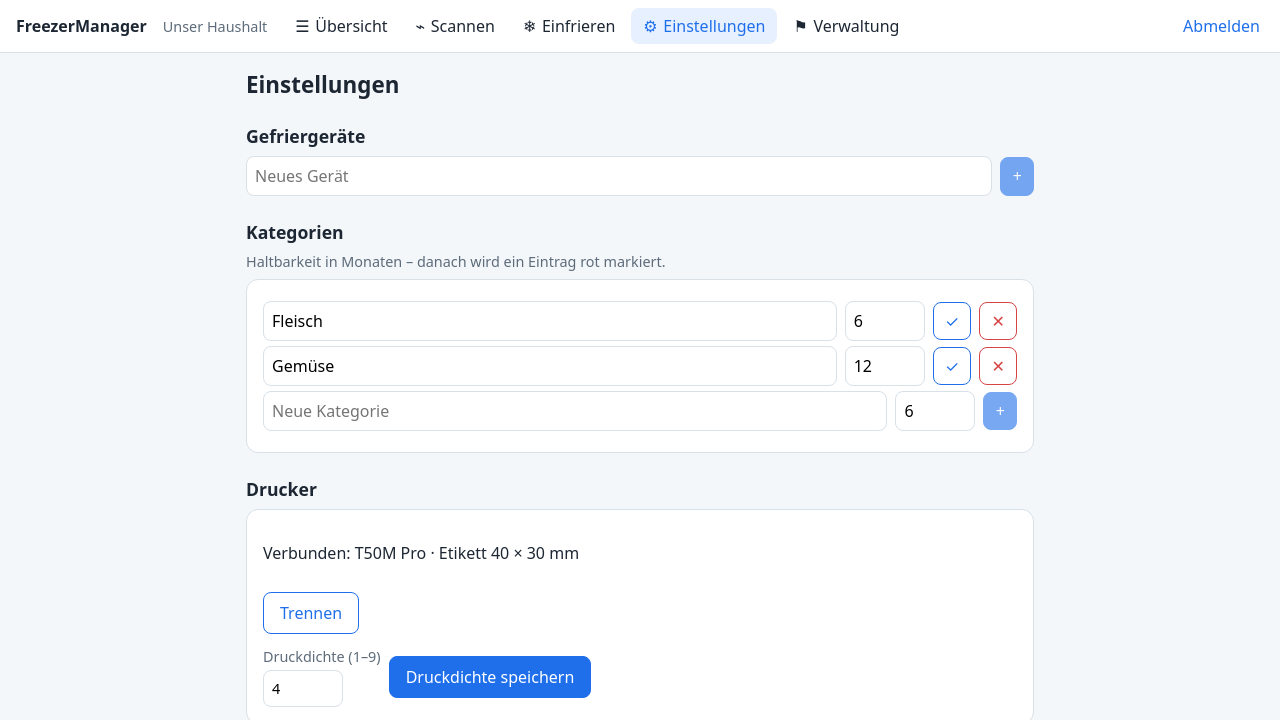
Test: adds a freezer and a compartment
Expected: the heading "Gefriergeräte" is shown, 246,124 -> 365,148
Type "Garage" into the field labelled "Neues Gerät" at (619, 176), box 246,156 -> 992,196
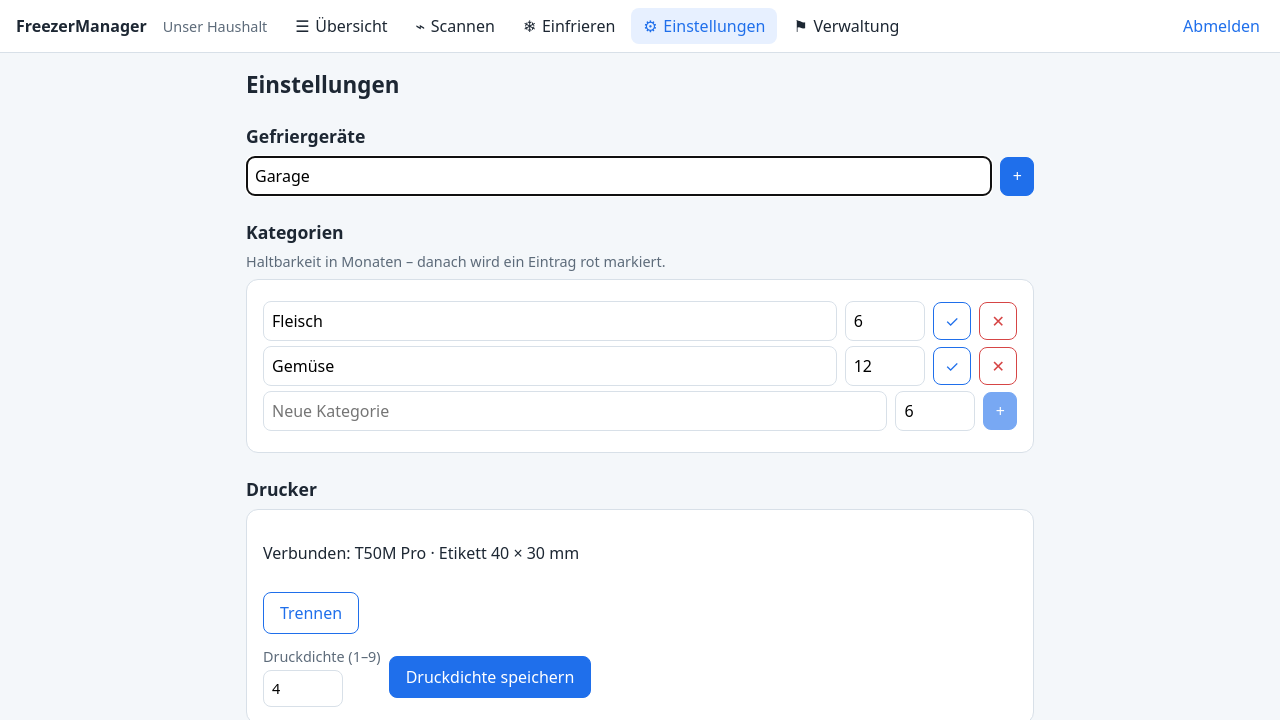
Click the button named "Gerät hinzufügen" at (1017, 176), box 1000,157 -> 1034,196
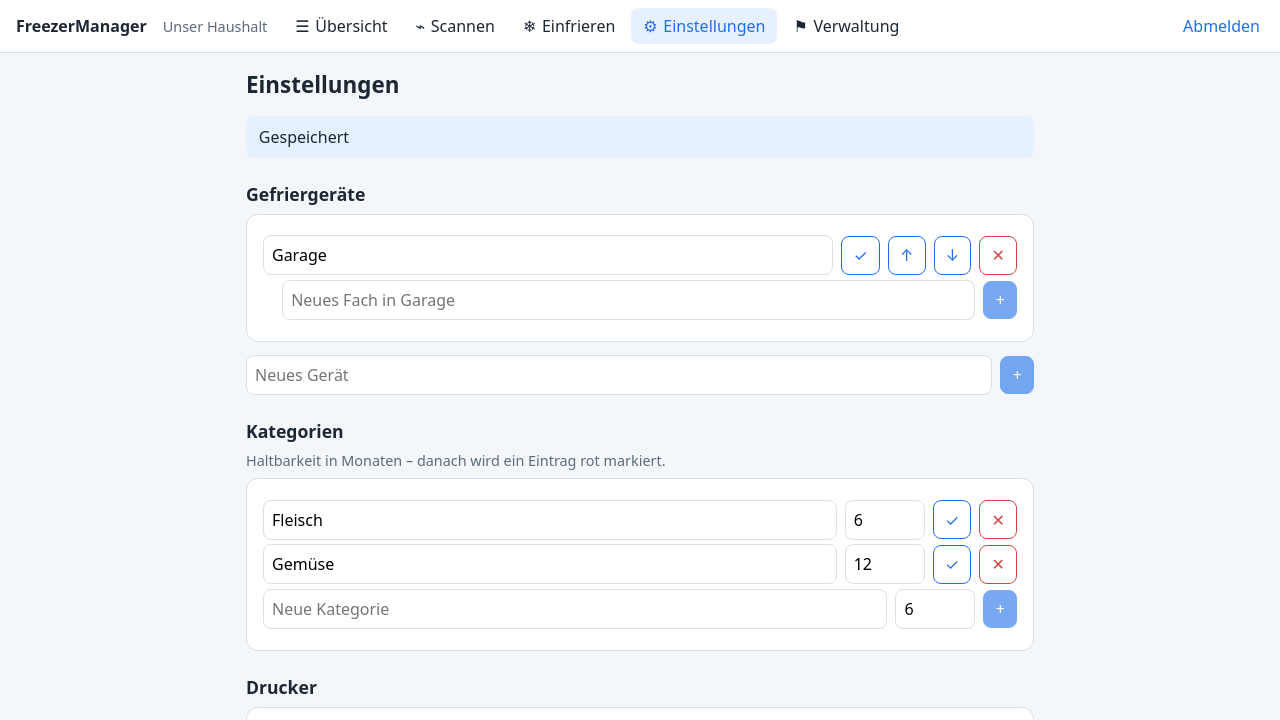
Result: the field showing "Garage" is shown at 263,235 -> 833,275
Type "Schublade 1" into the field labelled "Neues Fach in Garage" at (629, 300), box 282,280 -> 976,320
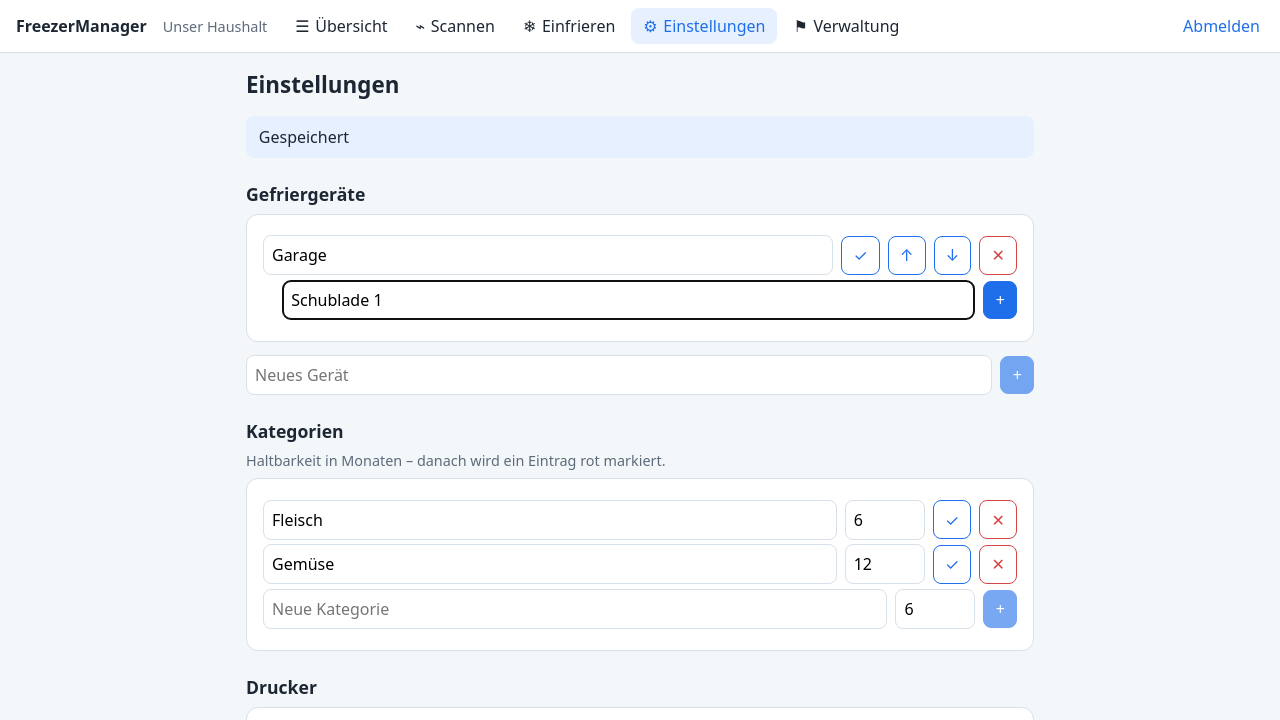
Click the button named "Fach zu Garage hinzufügen" at (1000, 300), box 984,281 -> 1017,319
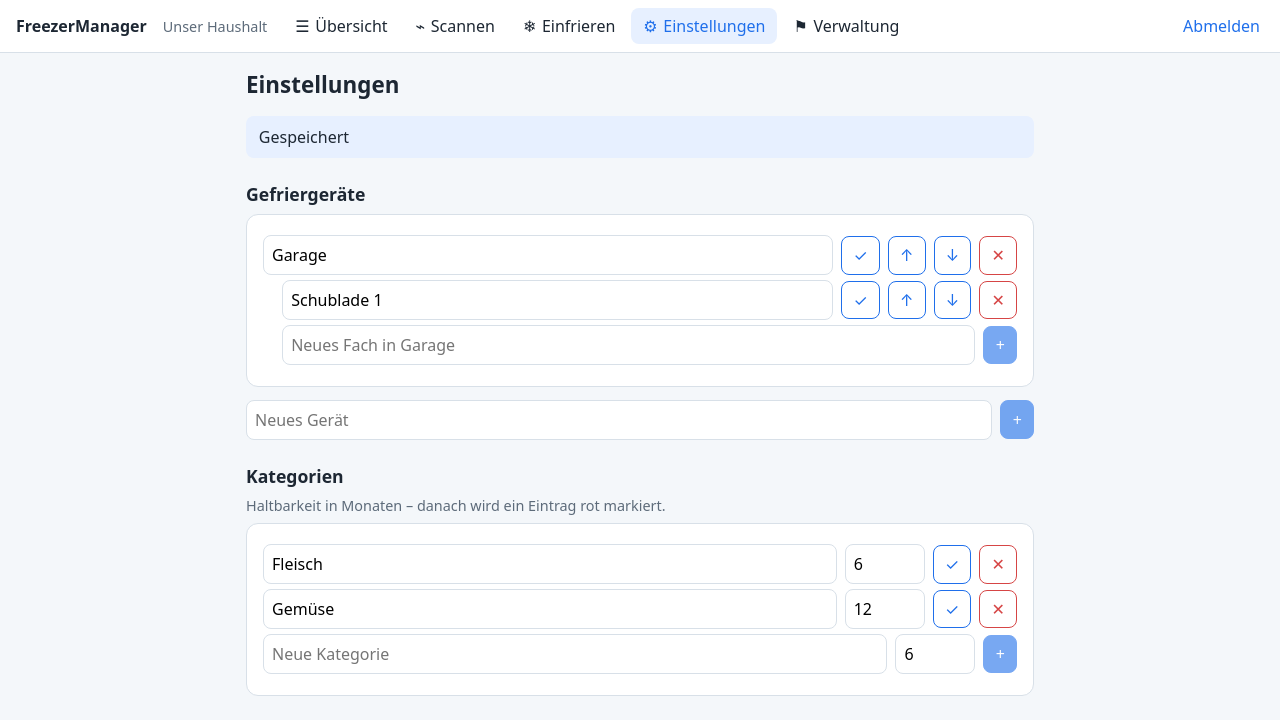
Result: the field showing "Schublade 1" is shown at 282,280 -> 833,320
